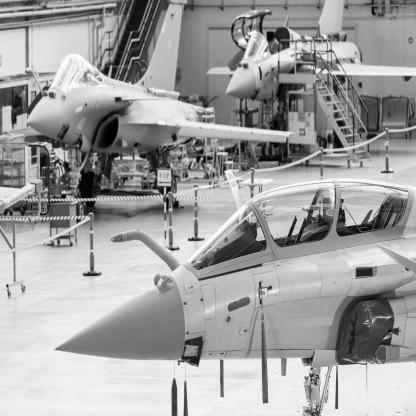Rafale: (54, 178, 416, 416), (1, 1, 298, 225), (207, 1, 416, 162)
